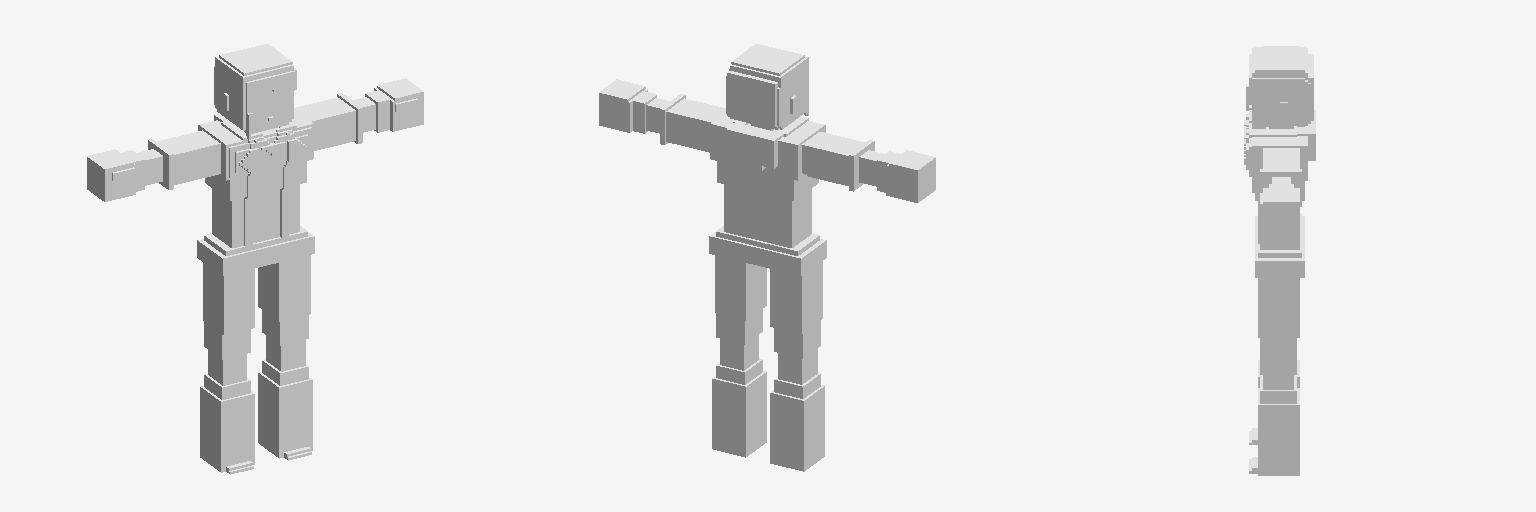
File: Voxel_OBJ.obj
3 views of the same model, side by side, from view 1: azimuth 30°, elevation 25°; view 2: azimuth 150°, elevation 25°; view 3: azimuth 270°, elevation 25° (orthographic).
Visible parts, largest first — view 1: object 1; view 2: object 1; view 3: object 1.
Boxes of the visible parts, <box> form: object 1: <box>87,43,423,474</box>; object 1: <box>599,43,935,471</box>; object 1: <box>1244,46,1315,475</box>.
Bounding box in the file's own units: 13.2 × 15.6 × 2.6.